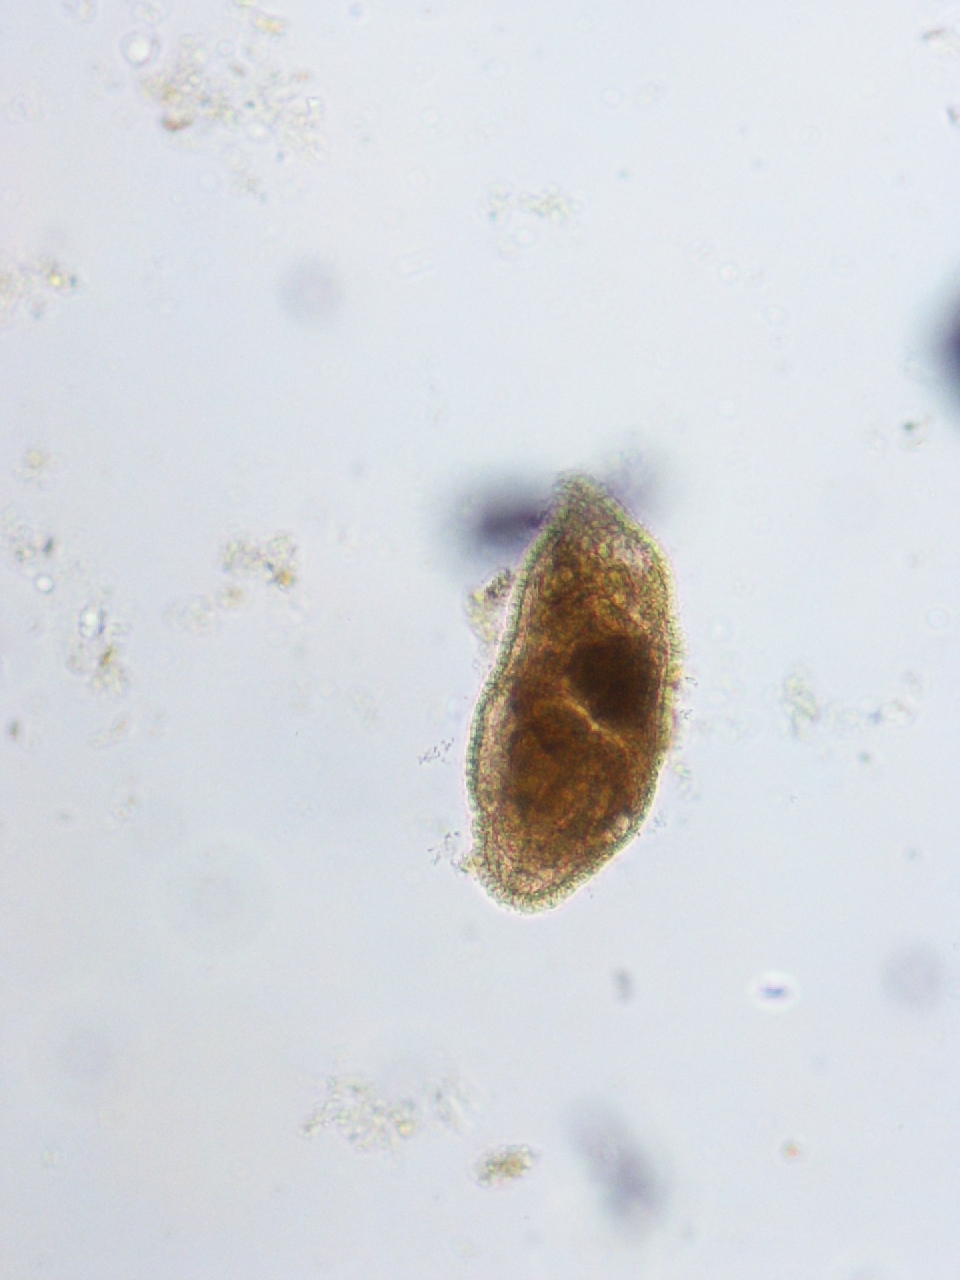turbellarians: (463, 485, 679, 916)
